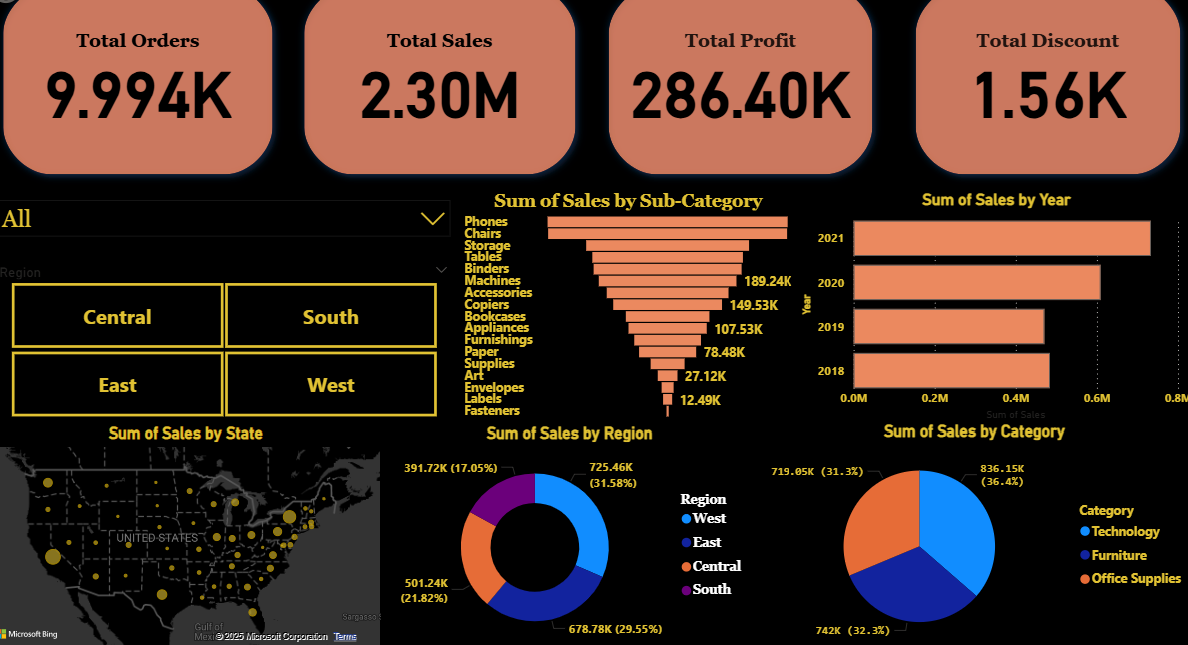

Layout of this report page (visuals, bound fields, positions):
{"tool":"powerbi","page":{"name":"Page 1","canvas":[1280,720],"ordinal":0},"visuals":[{"type":"cardVisual","fields":{"Data":["CountNonNull(Orders.Order ID)"]},"box":[0,0,319,233.3],"z":0},{"type":"cardVisual","fields":{"Data":["Sum(Orders.Sales)"]},"box":[319,0,321.4,233.3],"z":1000},{"type":"cardVisual","fields":{"Data":["Sum(Orders.Profit)"]},"box":[640.5,0,314.3,233.3],"z":2000},{"type":"map","fields":{"Category":["Orders.State"],"Size":["Sum(Orders.Sales)"]},"box":[0,479.2,420.8,241.5],"z":3000},{"type":"donutChart","fields":{"Category":["Orders.Region"],"Y":["Sum(Orders.Sales)"]},"box":[420.8,479.2,392.5,241.5],"z":4000},{"type":"barChart","fields":{"Category":["Orders.Order Date.Variation.Date Hierarchy.Year"],"Y":["Sum(Orders.Sales)"]},"box":[857.1,233.3,423.8,247.6],"z":5000},{"type":"actionButton","box":[0,0,100,40],"z":6000},{"type":"pieChart","fields":{"Category":["Orders.Category"],"Y":["Sum(Orders.Sales)"]},"box":[813.2,479.2,330.2,241.5],"z":7000},{"type":"funnel","fields":{"Category":["Orders.Sub-Category"],"Y":["Sum(Orders.Sales)"]},"box":[500,233.3,357.1,245.2],"z":8000},{"type":"slicer","fields":{"Values":["Orders.State"]},"box":[0,233.3,500,71.4],"z":9000},{"type":"slicer","fields":{"Values":["Orders.Region"]},"box":[0,304.8,500,173.8],"z":10000},{"type":"cardVisual","fields":{"Data":["Sum(Orders.Discount)"]},"box":[966.7,0,314.3,233.3],"z":10001}]}

Visuals, with their boxes on the page's 1280x720 design canvas (x1, y1, x2, y2). These are canvas units, not pixel positions in the 1188x645 screenshot, which may show the page scaled, cropped or inside an application window:
cardVisual - CountNonNull(Orders.Order ID): <region>0, 0, 319, 233</region>
cardVisual - Sum(Orders.Sales): <region>319, 0, 640, 233</region>
cardVisual - Sum(Orders.Profit): <region>640, 0, 955, 233</region>
map - Orders.State x Sum(Orders.Sales): <region>0, 479, 421, 721</region>
donutChart - Orders.Region x Sum(Orders.Sales): <region>421, 479, 813, 721</region>
barChart - Orders.Order Date.Variation.Date Hierarchy.Year x Sum(Orders.Sales): <region>857, 233, 1281, 481</region>
actionButton: <region>0, 0, 100, 40</region>
pieChart - Orders.Category x Sum(Orders.Sales): <region>813, 479, 1143, 721</region>
funnel - Orders.Sub-Category x Sum(Orders.Sales): <region>500, 233, 857, 478</region>
slicer - Orders.State: <region>0, 233, 500, 305</region>
slicer - Orders.Region: <region>0, 305, 500, 479</region>
cardVisual - Sum(Orders.Discount): <region>967, 0, 1281, 233</region>
